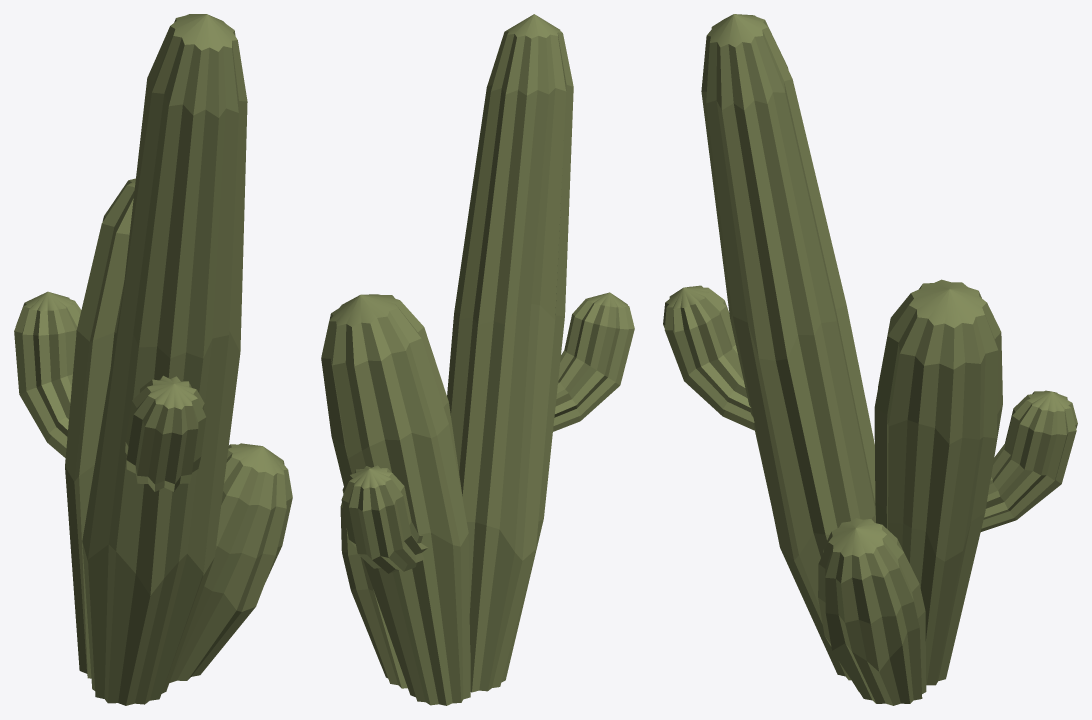
The model's file is Cactus3.glb.
3 renders of one model, left to right at view 1: azimuth 30°, elevation 25°; view 2: azimuth 150°, elevation 25°; view 3: azimuth 270°, elevation 25°, orthographic. The views are drawn at different scales.
Parts seen in each view (by area): view 1: SM_Env_Cactus_07; view 2: SM_Env_Cactus_07; view 3: SM_Env_Cactus_07.
Part boxes in pixels (<box>): SM_Env_Cactus_07: <box>14,14,292,705</box>; SM_Env_Cactus_07: <box>321,14,634,705</box>; SM_Env_Cactus_07: <box>663,14,1077,705</box>.
Size of the model in its own units: 0.7116 by 2.03 by 1.17.
